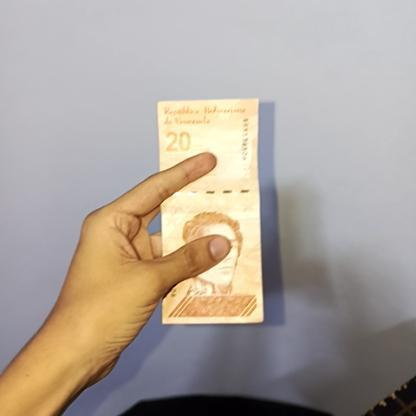twenty-front-vef: (157, 99, 264, 325)
